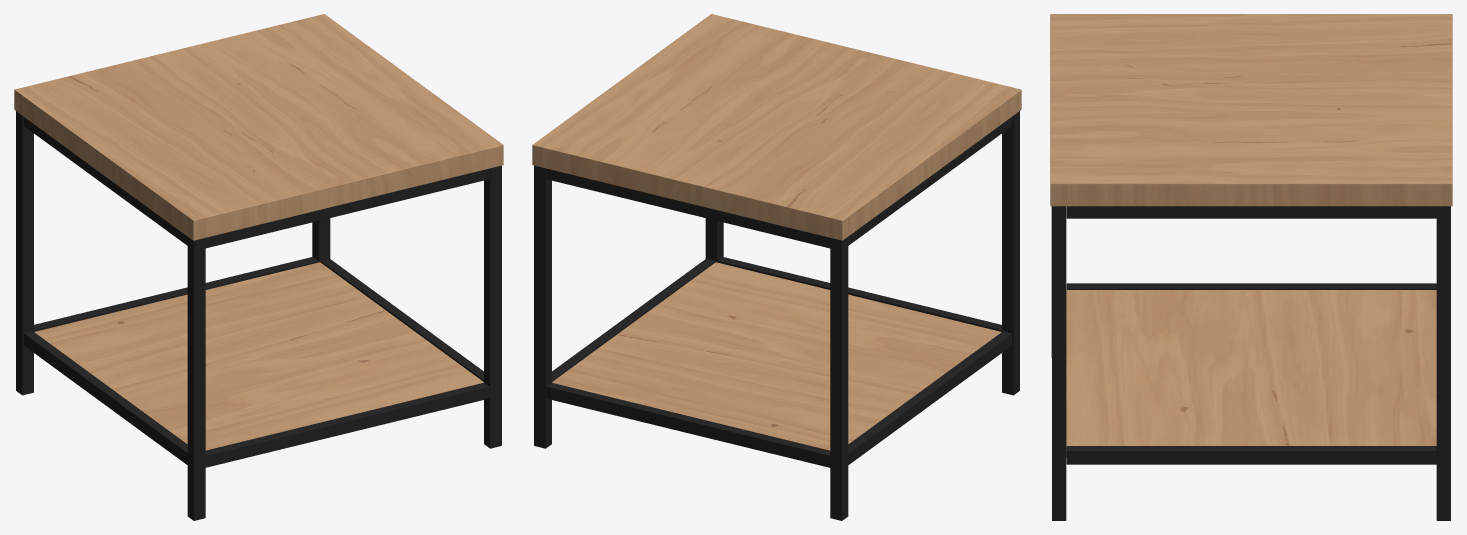
3 renders of one model, left to right at view 1: azimuth 30°, elevation 25°; view 2: azimuth 150°, elevation 25°; view 3: azimuth 270°, elevation 25°, orthographic. The views are drawn at different scales.
Parts seen in each view (by area): view 1: Wood, Metal; view 2: Wood, Metal; view 3: Wood, Metal.
Part boxes in pixels (left/top/right/bottom): Wood: left=14, top=14, right=503, bottom=450; Metal: left=16, top=111, right=501, bottom=520; Wood: left=532, top=14, right=1021, bottom=450; Metal: left=534, top=111, right=1019, bottom=520; Wood: left=1050, top=14, right=1452, bottom=457; Metal: left=1051, top=206, right=1450, bottom=520.
Bounding box in the file's own units: 0.55 × 0.5101 × 0.55.
1 material, 1 textured.
